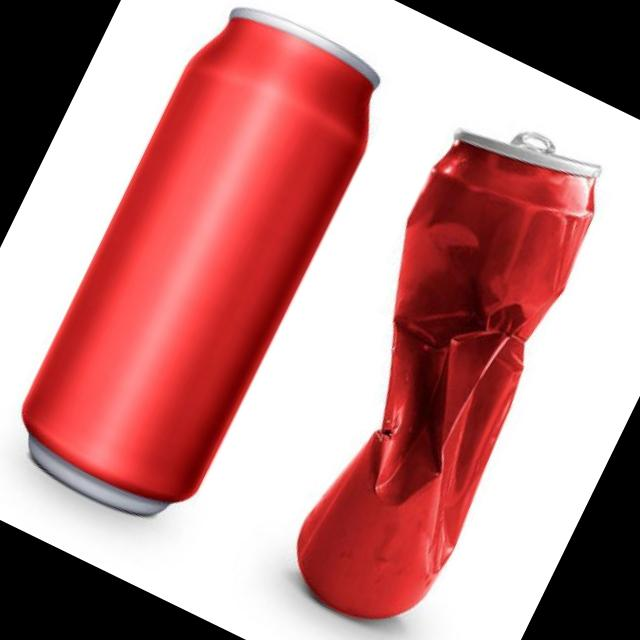Kaleng: (0, 0, 404, 540), (236, 94, 635, 640)
